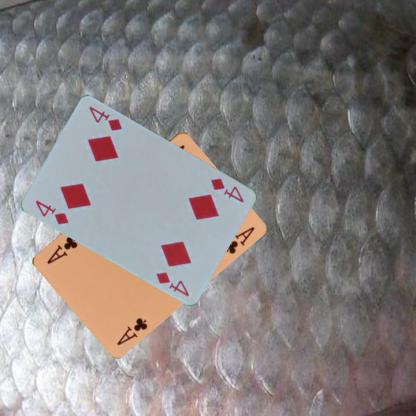4d: (33, 197, 70, 228), (209, 175, 246, 204)
Ac: (114, 314, 149, 346)
